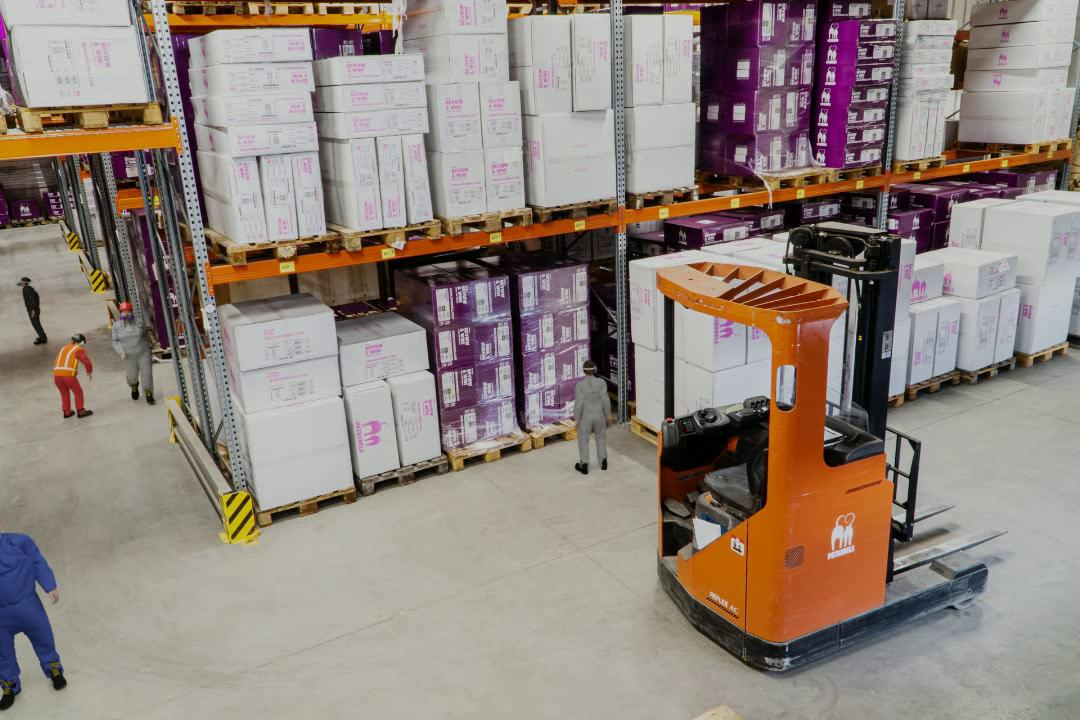Helmet: (69, 332, 88, 346), (117, 298, 133, 308)
Jacket: (54, 345, 79, 376)
Shoes: (1, 682, 21, 713), (50, 668, 67, 693), (574, 460, 589, 474), (78, 409, 96, 418), (599, 457, 609, 471), (146, 392, 156, 405), (130, 386, 139, 400), (62, 408, 74, 418), (33, 337, 47, 344)
